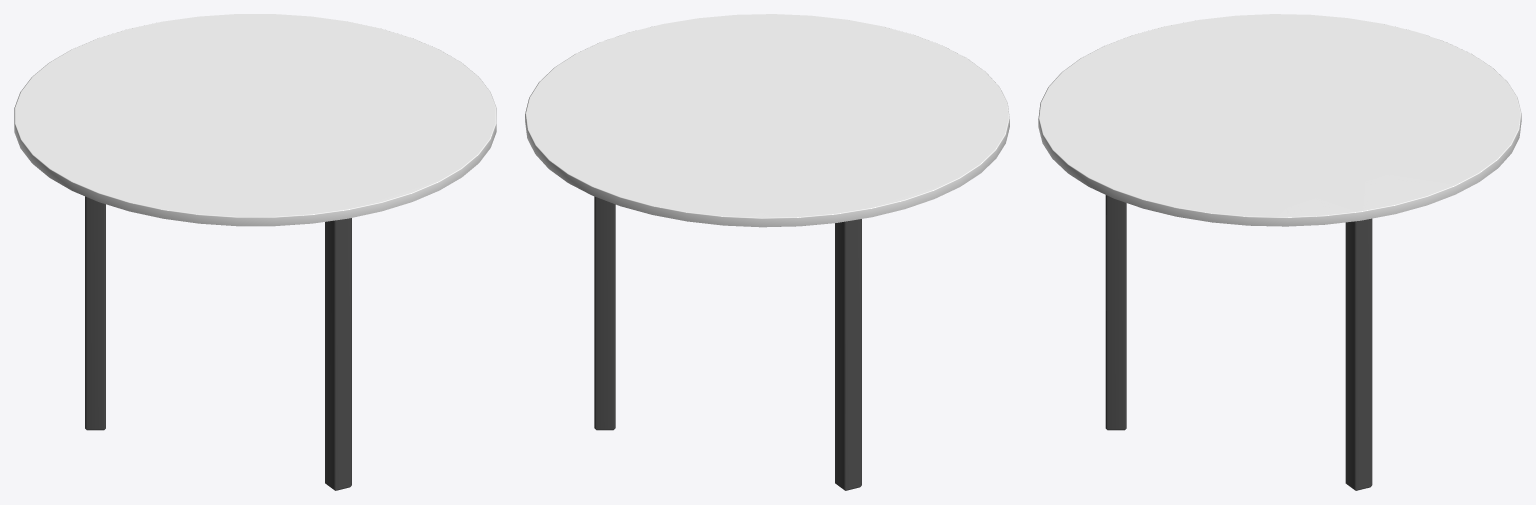
The model's file is round_table.fbx.
3 renders of one model, left to right at view 1: azimuth 30°, elevation 25°; view 2: azimuth 150°, elevation 25°; view 3: azimuth 270°, elevation 25°, orthographic.
Parts seen in each view (by area): view 1: round_table_parts, round_table_parts1; view 2: round_table_parts, round_table_parts1; view 3: round_table_parts, round_table_parts1.
Boxes of the visible parts, bbox=[...] form: round_table_parts: bbox=[14, 14, 496, 226]; round_table_parts1: bbox=[85, 196, 351, 490]; round_table_parts: bbox=[525, 14, 1009, 227]; round_table_parts1: bbox=[594, 196, 861, 490]; round_table_parts: bbox=[1038, 14, 1521, 226]; round_table_parts1: bbox=[1105, 195, 1372, 490].
Size of the model in its own units: 104 by 73.88 by 104.
1 material, 1 textured.
